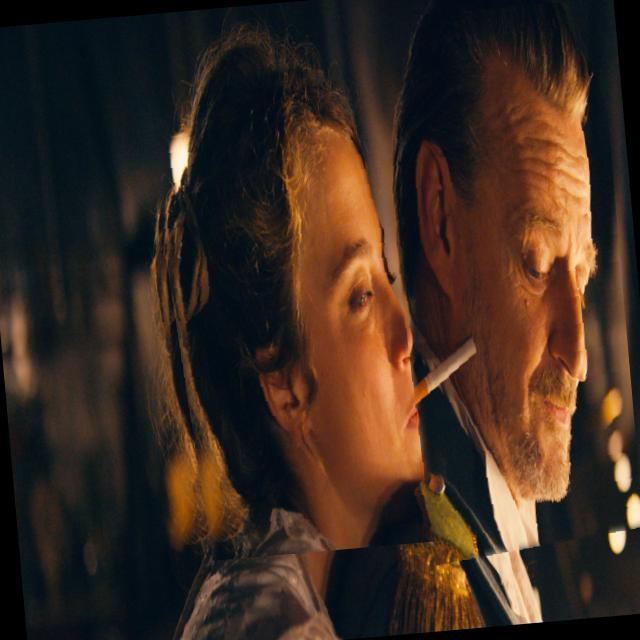cigarette: (376, 330, 476, 427)
